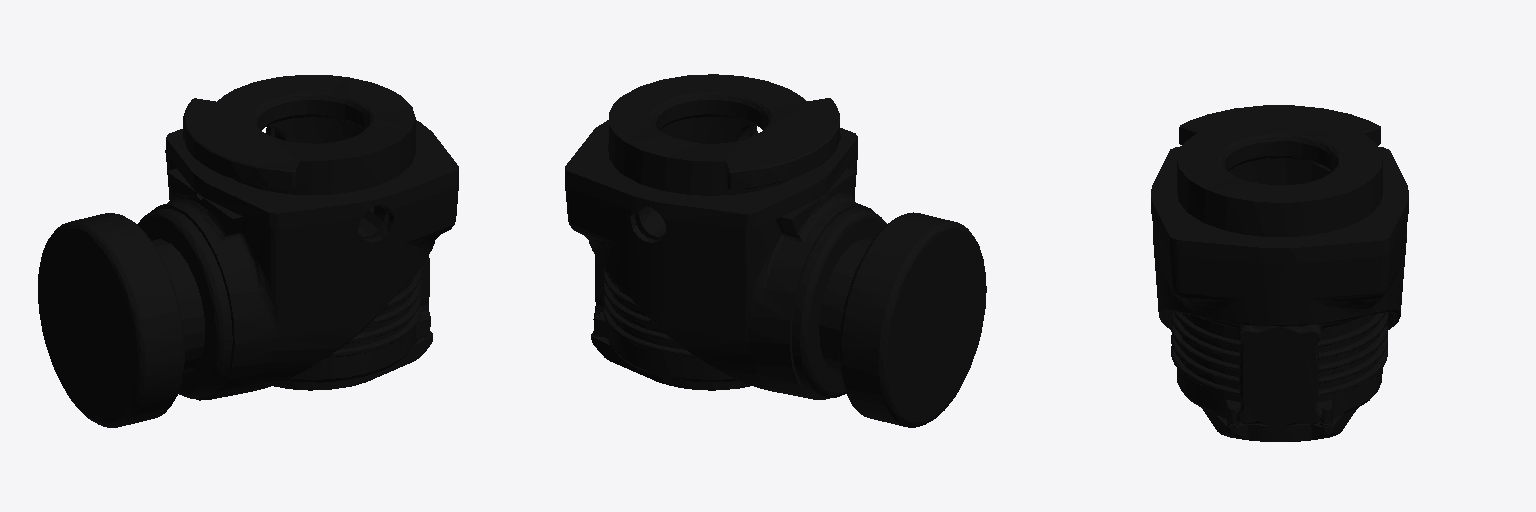
The model's file is front_left_hip.obj.
3 renders of one model, left to right at view 1: azimuth 30°, elevation 25°; view 2: azimuth 150°, elevation 25°; view 3: azimuth 270°, elevation 25°, orthographic.
Parts seen in each view (by area): view 1: _2-042137-001-A00_TOP_LEVEL_DEFEATURED_-_NOT_FOR_PRODUCTION_008; view 2: _2-042137-001-A00_TOP_LEVEL_DEFEATURED_-_NOT_FOR_PRODUCTION_008; view 3: _2-042137-001-A00_TOP_LEVEL_DEFEATURED_-_NOT_FOR_PRODUCTION_008.
Part boxes in pixels (bbox=[...]): _2-042137-001-A00_TOP_LEVEL_DEFEATURED_-_NOT_FOR_PRODUCTION_008: bbox=[38, 75, 458, 427]; _2-042137-001-A00_TOP_LEVEL_DEFEATURED_-_NOT_FOR_PRODUCTION_008: bbox=[565, 74, 986, 427]; _2-042137-001-A00_TOP_LEVEL_DEFEATURED_-_NOT_FOR_PRODUCTION_008: bbox=[1151, 105, 1408, 441].
Bounding box in the file's own units: 0.1417 × 0.1001 × 0.0941.